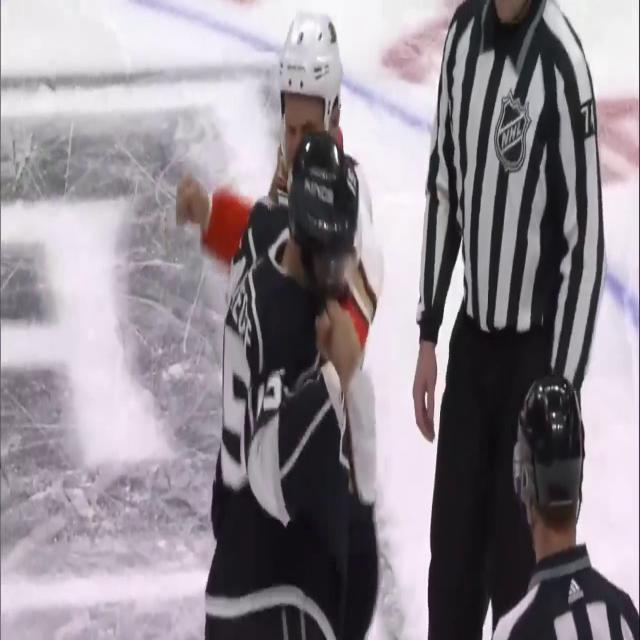Violence: (175, 3, 386, 640)
